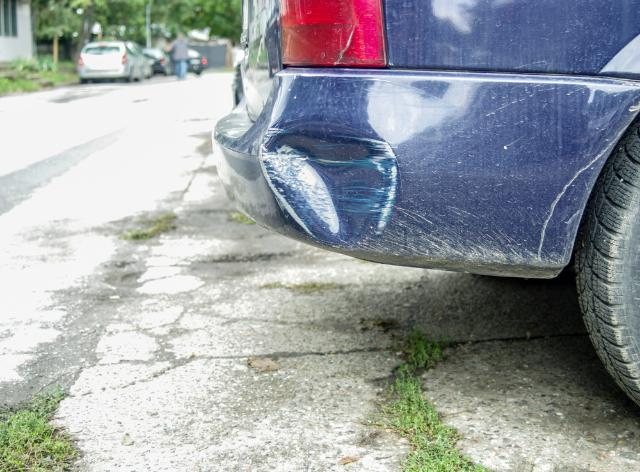dent: (261, 115, 395, 243)
